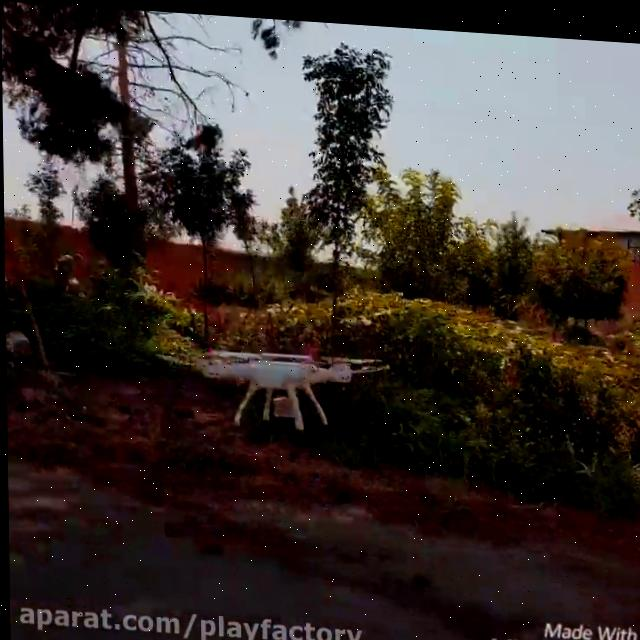drone: (153, 330, 390, 428)
